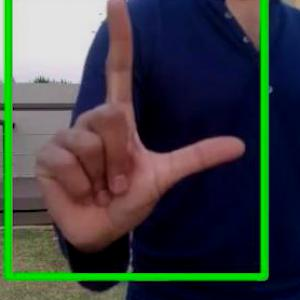land_hand: (21, 0, 257, 262)
